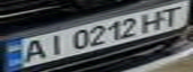0: (66, 26, 90, 52)
1: (106, 18, 127, 43)
2: (118, 15, 142, 38), (87, 22, 109, 47)
A: (12, 36, 51, 64)
H: (136, 9, 169, 34)
I: (39, 32, 69, 56)
T: (151, 3, 190, 28)
